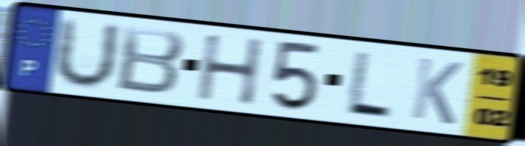5: (266, 38, 326, 114)
B: (113, 23, 188, 98)
H: (196, 33, 267, 108)
K: (408, 55, 466, 128)
L: (341, 48, 395, 122)
U: (49, 14, 123, 92)
